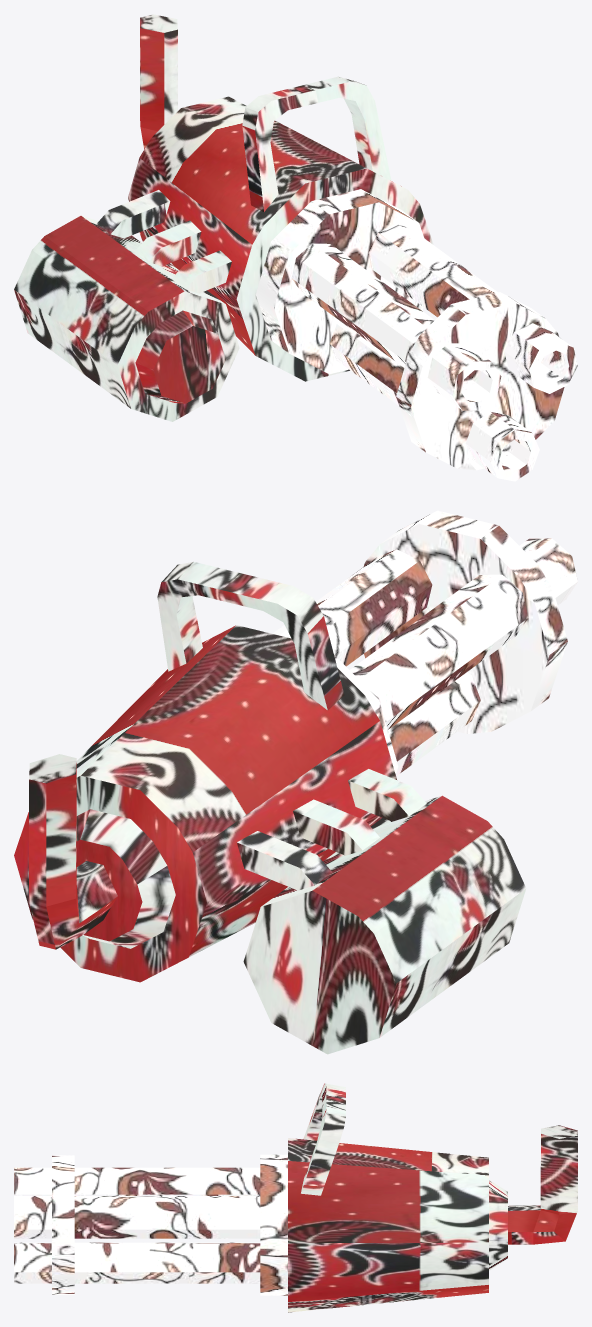
File: Minigun batik fix.fbx
3 views of the same model, one above another, from view 1: azimuth 30°, elevation 25°; view 2: azimuth 150°, elevation 25°; view 3: azimuth 270°, elevation 25° (orthographic). The views are drawn at different scales.
Parts seen in each view (by area): view 1: Minigun_mesh_v3, Minigun_barrel_v3; view 2: Minigun_mesh_v3, Minigun_barrel_v3; view 3: Minigun_mesh_v3, Minigun_barrel_v3.
Boxes of the visible parts, x1=… form: Minigun_mesh_v3: x1=14, y1=14, x2=433, y2=421; Minigun_barrel_v3: x1=255, y1=189, x2=577, y2=481; Minigun_mesh_v3: x1=14, y1=562, x2=526, y2=1054; Minigun_barrel_v3: x1=272, y1=510, x2=577, y2=776; Minigun_mesh_v3: x1=288, y1=1083, x2=577, y2=1312; Minigun_barrel_v3: x1=14, y1=1154, x2=287, y2=1295.
Bounding box in the file's own units: 19.67 × 17.12 × 40.61.
